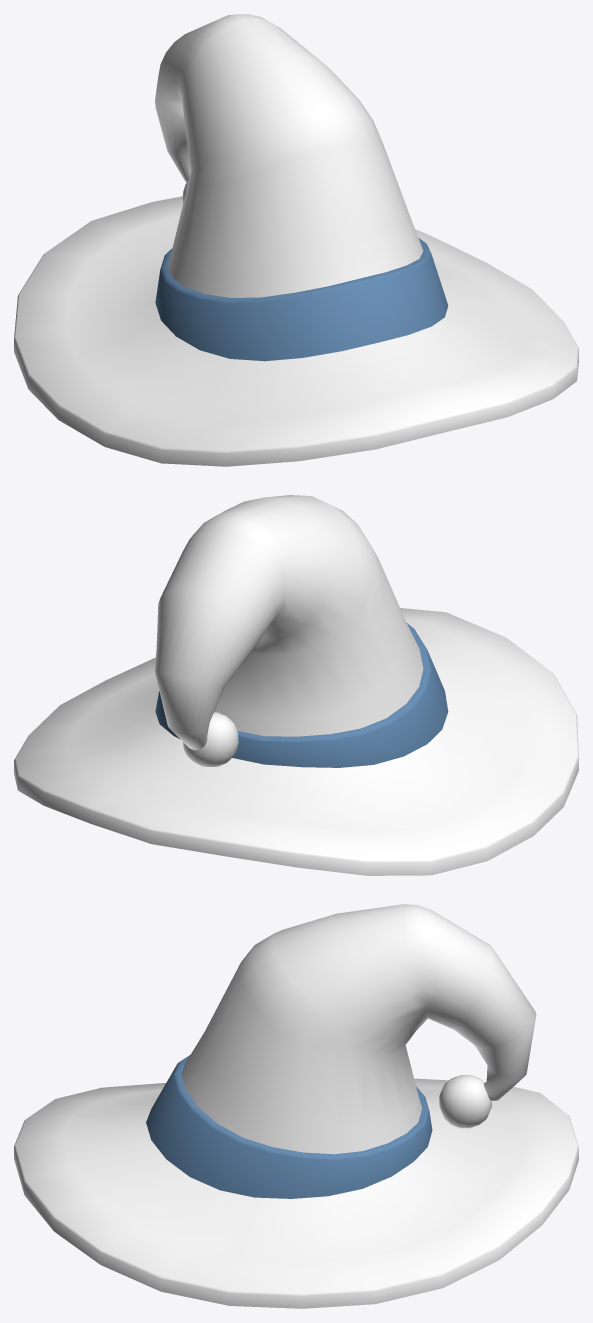
File: magePawn_icehat3.fbx
3 renders of one model, top to bottom at view 1: azimuth 30°, elevation 25°; view 2: azimuth 150°, elevation 25°; view 3: azimuth 270°, elevation 25°, orthographic. The views are drawn at different scales.
Visible parts, largest first — view 1: wizIceHat3exp; view 2: wizIceHat3exp; view 3: wizIceHat3exp.
Part boxes in pixels (x1=…): wizIceHat3exp: x1=14, y1=14, x2=578, y2=466; wizIceHat3exp: x1=14, y1=495, x2=578, y2=875; wizIceHat3exp: x1=14, y1=904, x2=578, y2=1308.
Size of the model in its own units: 271 by 166 by 292.
